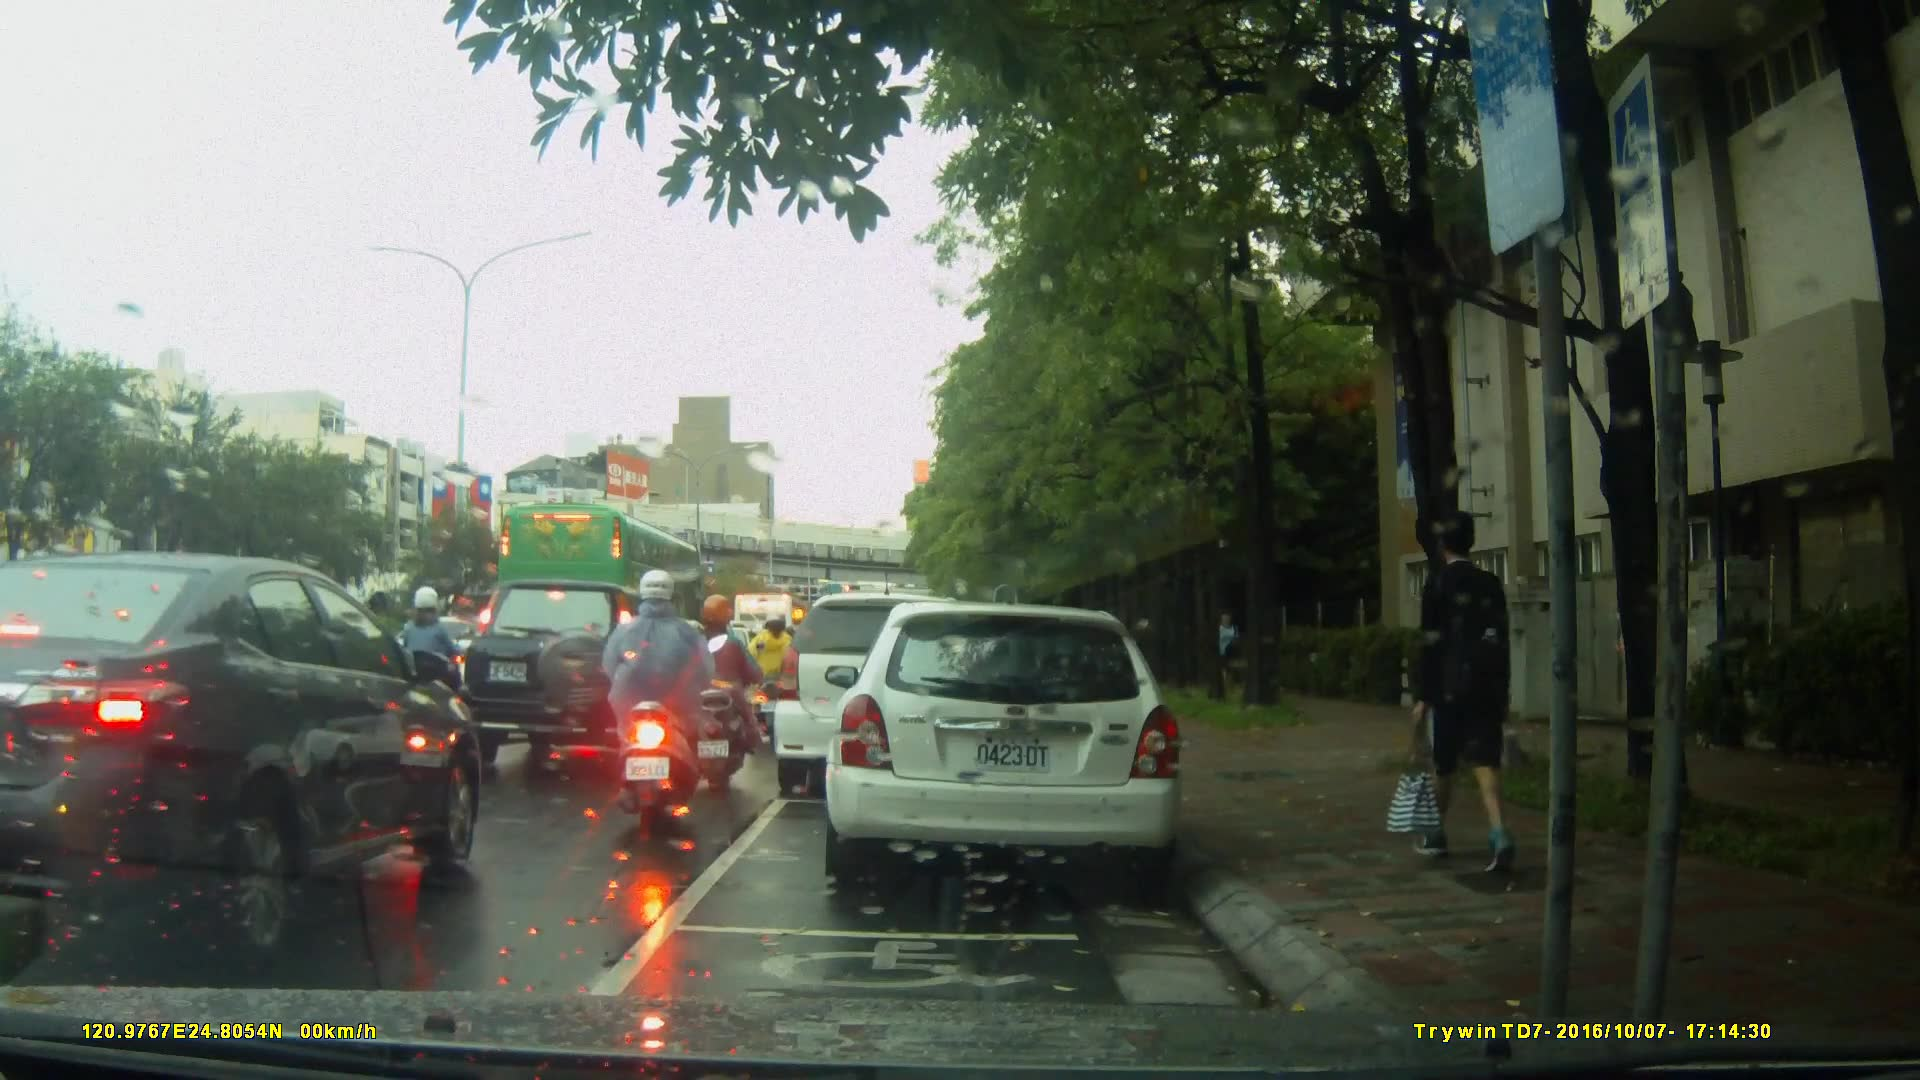pedestrian: (1382, 499, 1539, 870)
rider: (597, 572, 727, 831), (681, 598, 754, 795), (387, 583, 474, 747), (744, 609, 805, 732)
vehicle: (1, 550, 487, 977), (831, 592, 1196, 897), (770, 592, 999, 799), (460, 577, 686, 772), (494, 502, 705, 656), (385, 1061, 405, 1080), (370, 1061, 390, 1080)
